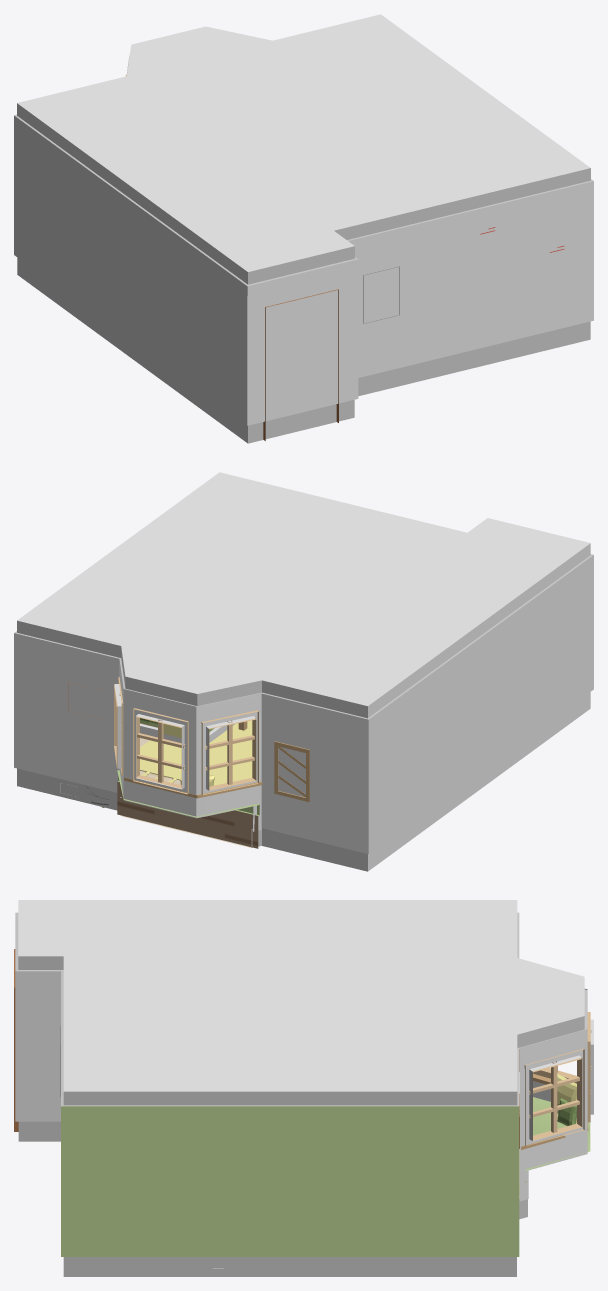
Rendered from Bedroom_Enviroment_Model.fbx.
3 renders of one model, top to bottom at view 1: azimuth 30°, elevation 25°; view 2: azimuth 150°, elevation 25°; view 3: azimuth 270°, elevation 25°, orthographic. The views are drawn at different scales.
Visible parts, largest first — view 1: Walls; view 2: Walls, Winodw_Wall, Windows, Window_Seating_Area_Wood, Rug, Accessories_Organizer, Bed, Window_Sill; view 3: Walls, Winodw_Wall, Windows, Window_Seating_Area_Cushion.
Boxes of the visible parts, box(x1,y1,x2,y2) form: Walls: box(14, 14, 593, 443); Walls: box(14, 472, 593, 871); Winodw_Wall: box(114, 659, 261, 831); Windows: box(114, 677, 258, 795); Window_Seating_Area_Wood: box(117, 781, 258, 848); Rug: box(140, 720, 252, 785); Accessories_Organizer: box(274, 741, 309, 802); Bed: box(140, 718, 247, 743); Window_Sill: box(124, 777, 262, 798); Walls: box(15, 900, 587, 1276); Winodw_Wall: box(519, 988, 593, 1201); Windows: box(524, 1012, 591, 1146); Window_Seating_Area_Cushion: box(525, 1097, 590, 1182).
Bounding box in the file's own units: 20 × 9 × 25.31.
